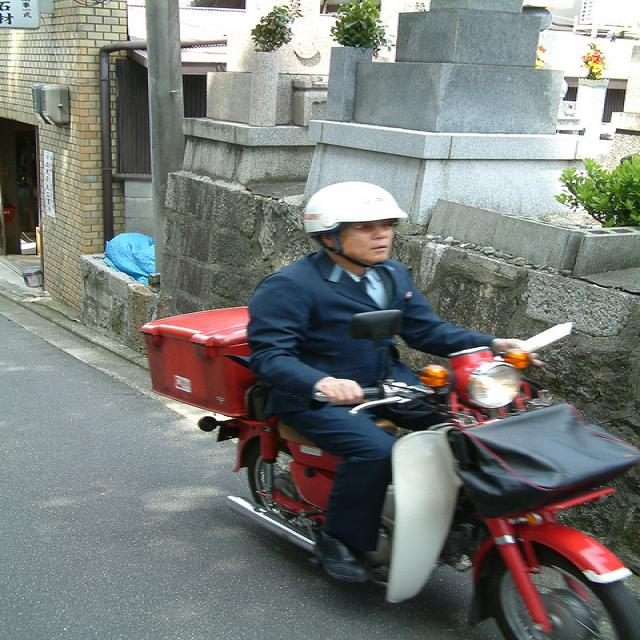motor: (141, 307, 640, 640)
